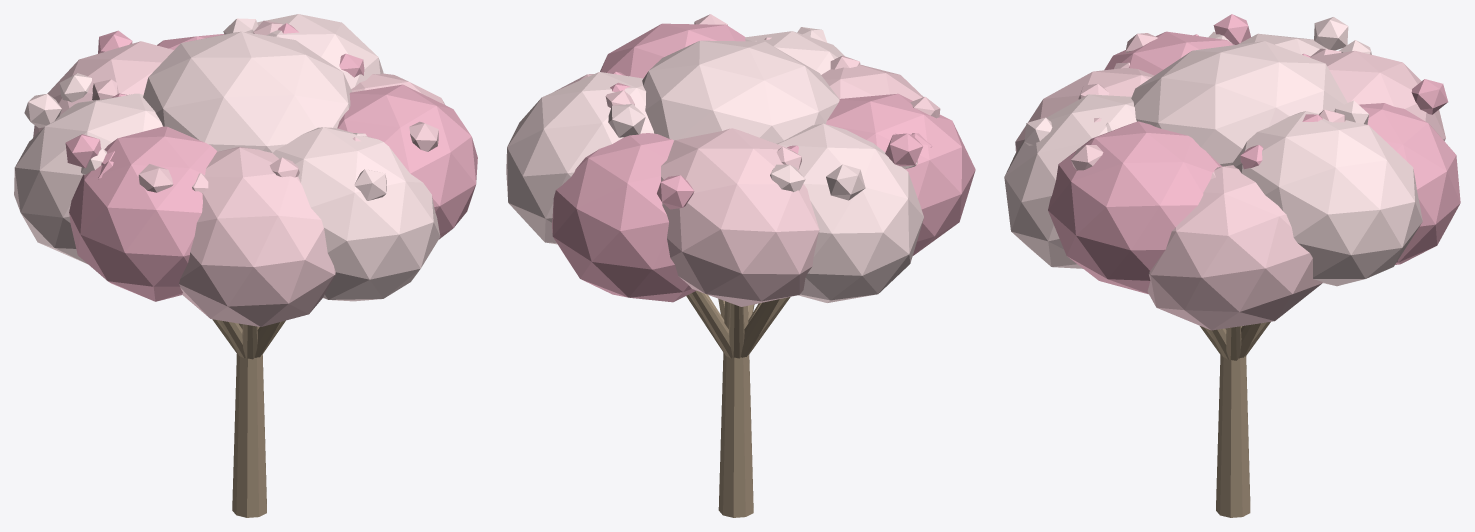
Rendered from SIMUS_Cherry.glb.
3 renders of one model, left to right at view 1: azimuth 30°, elevation 25°; view 2: azimuth 150°, elevation 25°; view 3: azimuth 270°, elevation 25°, orthographic.
Parts seen in each view (by area): view 1: Cherry Cherry blossom 1, Cherry Cherry blossom 2, Cherry Cherry blossom 0, Cherry Young bark; view 2: Cherry Cherry blossom 1, Cherry Cherry blossom 2, Cherry Cherry blossom 0, Cherry Young bark; view 3: Cherry Cherry blossom 1, Cherry Cherry blossom 2, Cherry Cherry blossom 0, Cherry Young bark.
Part boxes in pixels (bbox=[...]): Cherry Cherry blossom 1: bbox=[14, 14, 440, 301]; Cherry Cherry blossom 2: bbox=[65, 23, 477, 301]; Cherry Cherry blossom 0: bbox=[33, 20, 444, 326]; Cherry Young bark: bbox=[212, 319, 285, 517]; Cherry Cherry blossom 1: bbox=[506, 27, 923, 302]; Cherry Cherry blossom 2: bbox=[552, 23, 975, 302]; Cherry Cherry blossom 0: bbox=[554, 14, 940, 306]; Cherry Young bark: bbox=[686, 291, 790, 517]; Cherry Cherry blossom 1: bbox=[1004, 17, 1422, 286]; Cherry Cherry blossom 2: bbox=[1048, 14, 1460, 294]; Cherry Cherry blossom 0: bbox=[1015, 33, 1445, 330]; Cherry Young bark: bbox=[1200, 322, 1270, 517].
Bounding box in the file's own units: 4.38 × 4.79 × 4.35.
